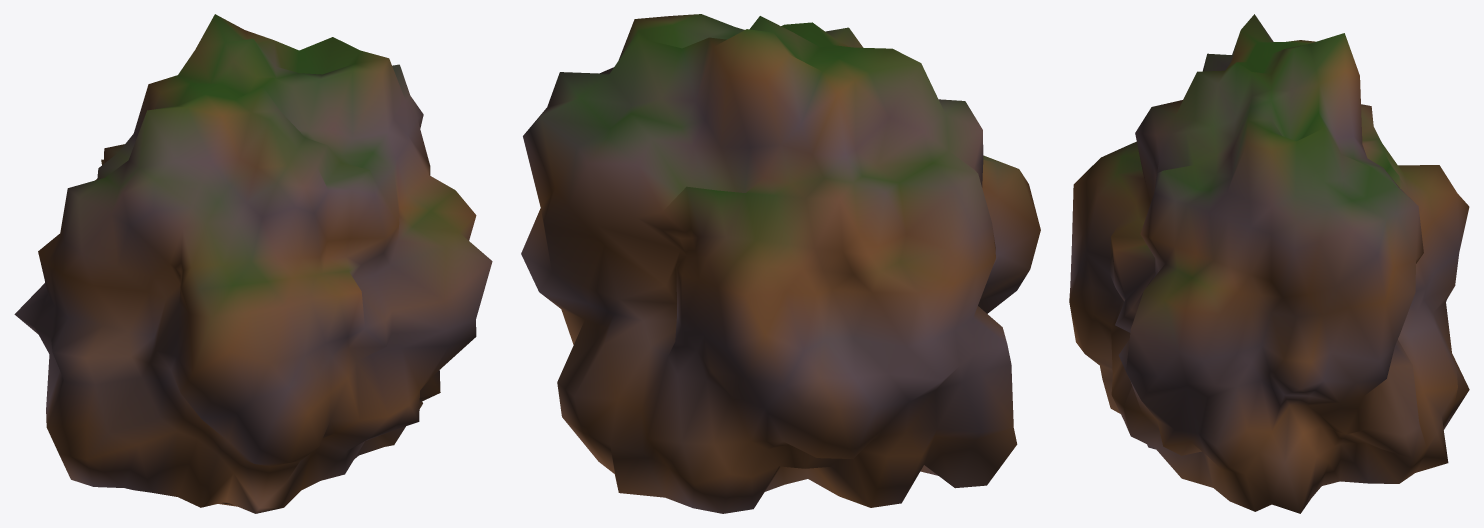
The model's file is coast-rock-a.glb.
The picture shows the model from 3 angles, left to right: view 1: azimuth 30°, elevation 25°; view 2: azimuth 150°, elevation 25°; view 3: azimuth 270°, elevation 25°; orthographic projection. The views are drawn at different scales.
Visible parts, largest first — view 1: rock-a; view 2: rock-a; view 3: rock-a.
Boxes of the visible parts, left/top/right/bottom form: rock-a: left=14, top=14, right=492, bottom=513; rock-a: left=521, top=14, right=1040, bottom=513; rock-a: left=1069, top=14, right=1469, bottom=513.
Bounding box in the file's own units: 9.43 × 9.1 × 8.28.
